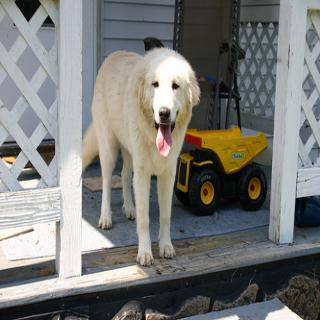dog: (132, 45, 202, 173)
